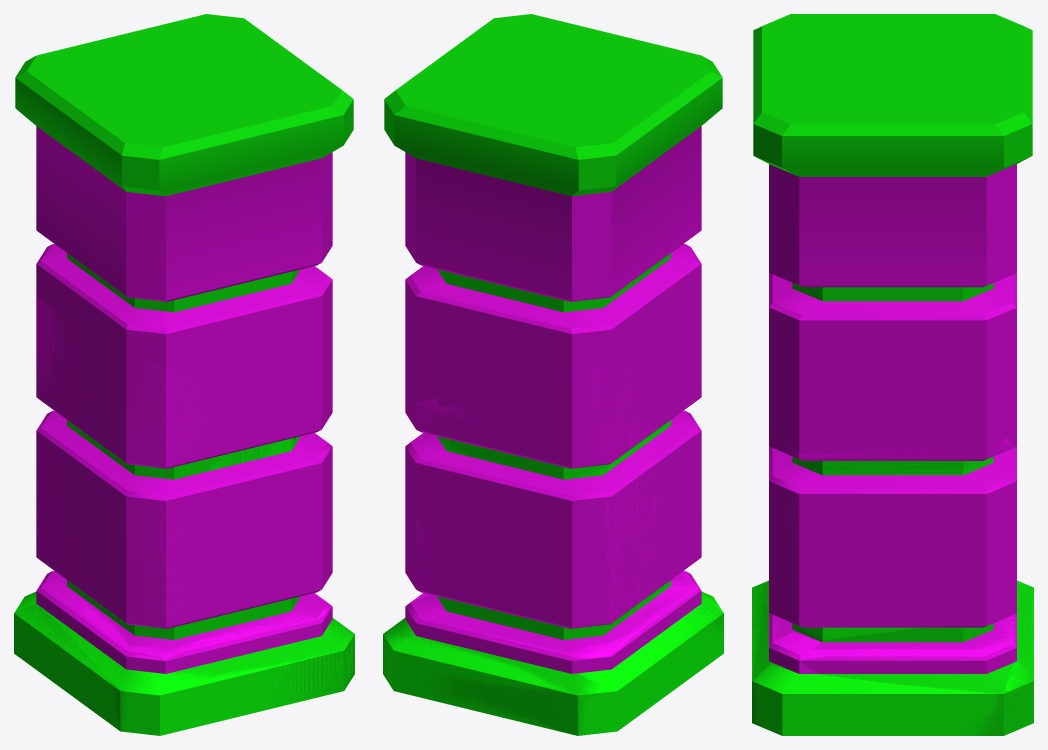
File: pillars_low.fbx
3 views of the same model, side by side, from view 1: azimuth 30°, elevation 25°; view 2: azimuth 150°, elevation 25°; view 3: azimuth 270°, elevation 25° (orthographic). The views are drawn at different scales.
Visible parts, largest first — view 1: pillar_tall_low, pillar_short_low; view 2: pillar_tall_low, pillar_short_low; view 3: pillar_tall_low, pillar_short_low.
Boxes of the visible parts, box(x1,y1,x2,y2) form: pillar_tall_low: box(14, 14, 354, 731); pillar_short_low: box(14, 296, 354, 735); pillar_tall_low: box(383, 14, 723, 735); pillar_short_low: box(383, 349, 723, 735); pillar_tall_low: box(752, 14, 1033, 735); pillar_short_low: box(752, 438, 1033, 735).
Size of the model in its own units: 18.23 by 43.35 by 18.23.
